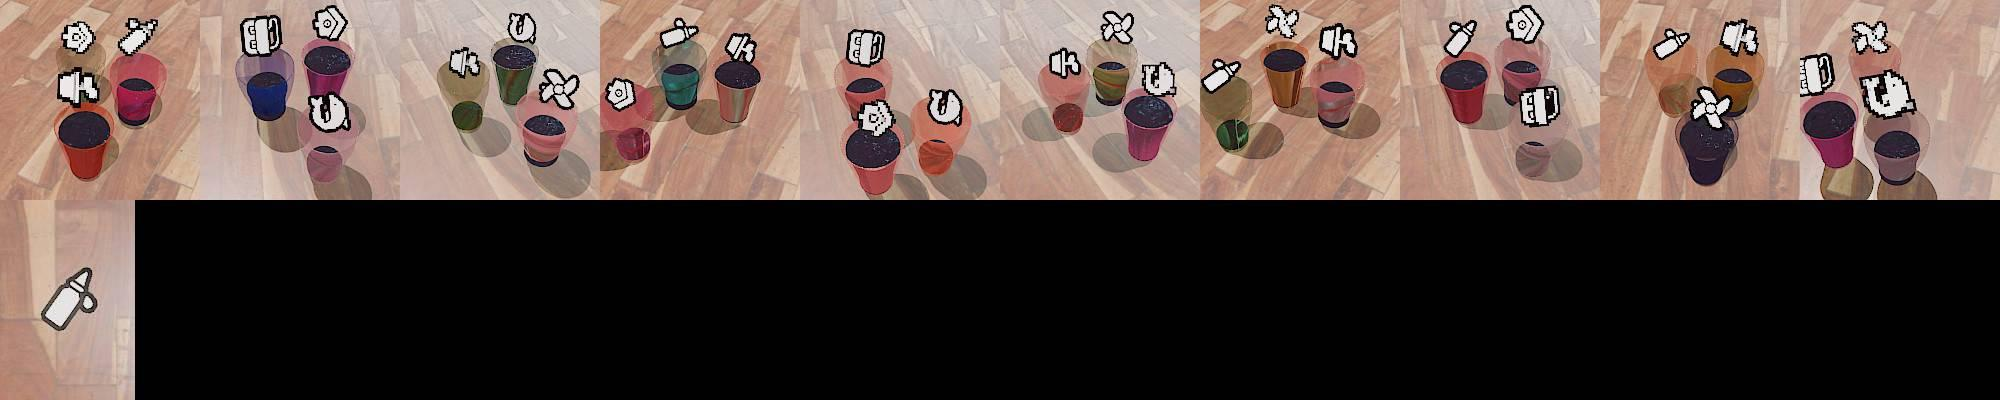icon: (38, 265, 99, 330), (1857, 68, 1917, 120), (1689, 84, 1733, 129), (239, 14, 283, 57), (540, 68, 582, 111), (307, 90, 351, 132), (56, 68, 102, 107), (1519, 84, 1561, 126), (853, 97, 897, 138), (1798, 52, 1837, 97), (1504, 4, 1545, 45), (117, 17, 158, 56), (1718, 18, 1760, 56), (1319, 22, 1358, 60), (1443, 18, 1480, 59), (847, 28, 885, 66), (926, 87, 963, 126), (1140, 60, 1177, 99), (1849, 20, 1890, 56), (311, 4, 348, 42), (1200, 57, 1237, 94), (659, 17, 699, 50), (1265, 4, 1301, 39), (1099, 9, 1135, 45), (1653, 27, 1690, 61), (1047, 47, 1082, 82), (61, 20, 96, 55), (603, 75, 636, 111), (724, 32, 758, 65), (449, 46, 482, 78), (508, 11, 537, 45)
